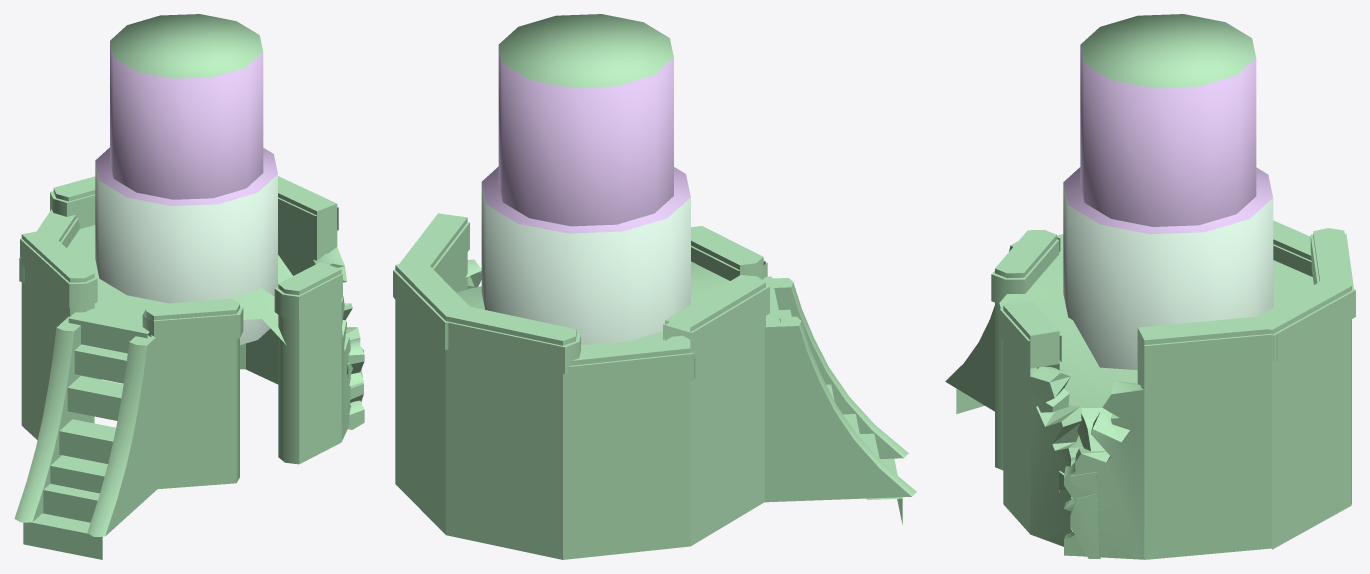
3 renders of one model, left to right at view 1: azimuth 30°, elevation 25°; view 2: azimuth 150°, elevation 25°; view 3: azimuth 270°, elevation 25°, orthographic. The views are drawn at different scales.
Parts seen in each view (by area): view 1: Object66; view 2: Object66; view 3: Object66.
Boxes of the visible parts, box(x1,y1,x2,y2) form: Object66: box(14, 14, 364, 559); Object66: box(393, 14, 916, 559); Object66: box(945, 14, 1355, 559).
Size of the model in its own units: 690 by 718 by 578.
